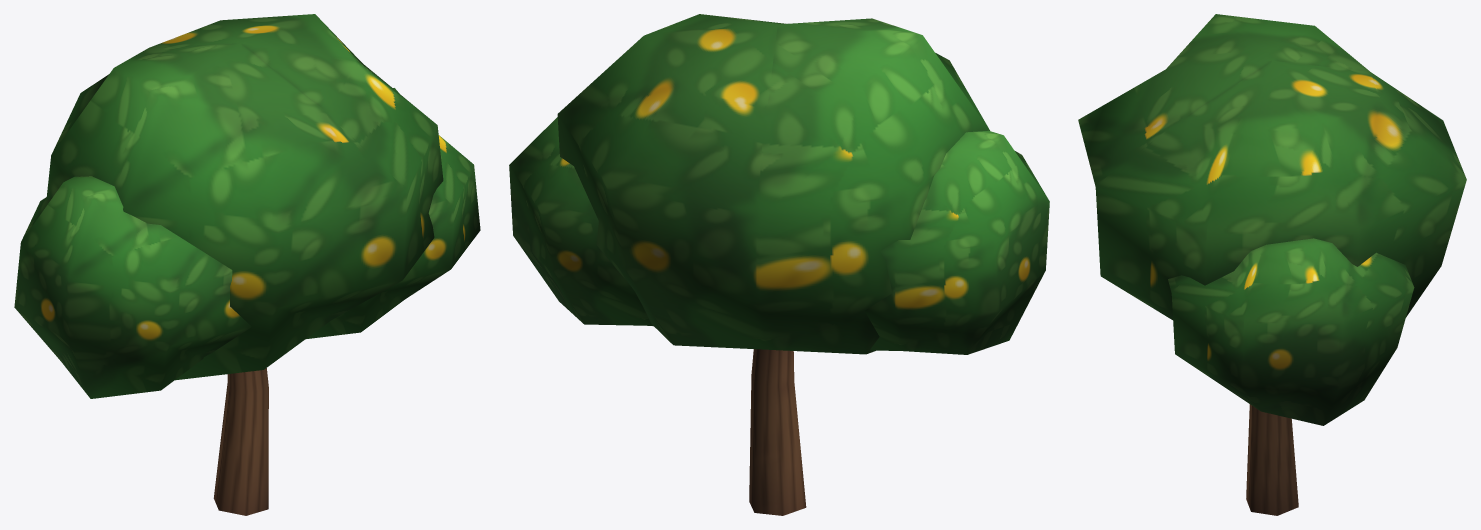
Rendered from lemon_tree.obj.
3 renders of one model, left to right at view 1: azimuth 30°, elevation 25°; view 2: azimuth 150°, elevation 25°; view 3: azimuth 270°, elevation 25°, orthographic. The views are drawn at different scales.
Parts seen in each view (by area): view 1: LemonTree; view 2: LemonTree; view 3: LemonTree.
Part boxes in pixels (left/top/right/bottom): LemonTree: left=14, top=14, right=480, bottom=515; LemonTree: left=509, top=14, right=1049, bottom=515; LemonTree: left=1078, top=14, right=1466, bottom=515.
Size of the model in its own units: 3.5 by 3.49 by 2.77.
1 material, 1 textured.
